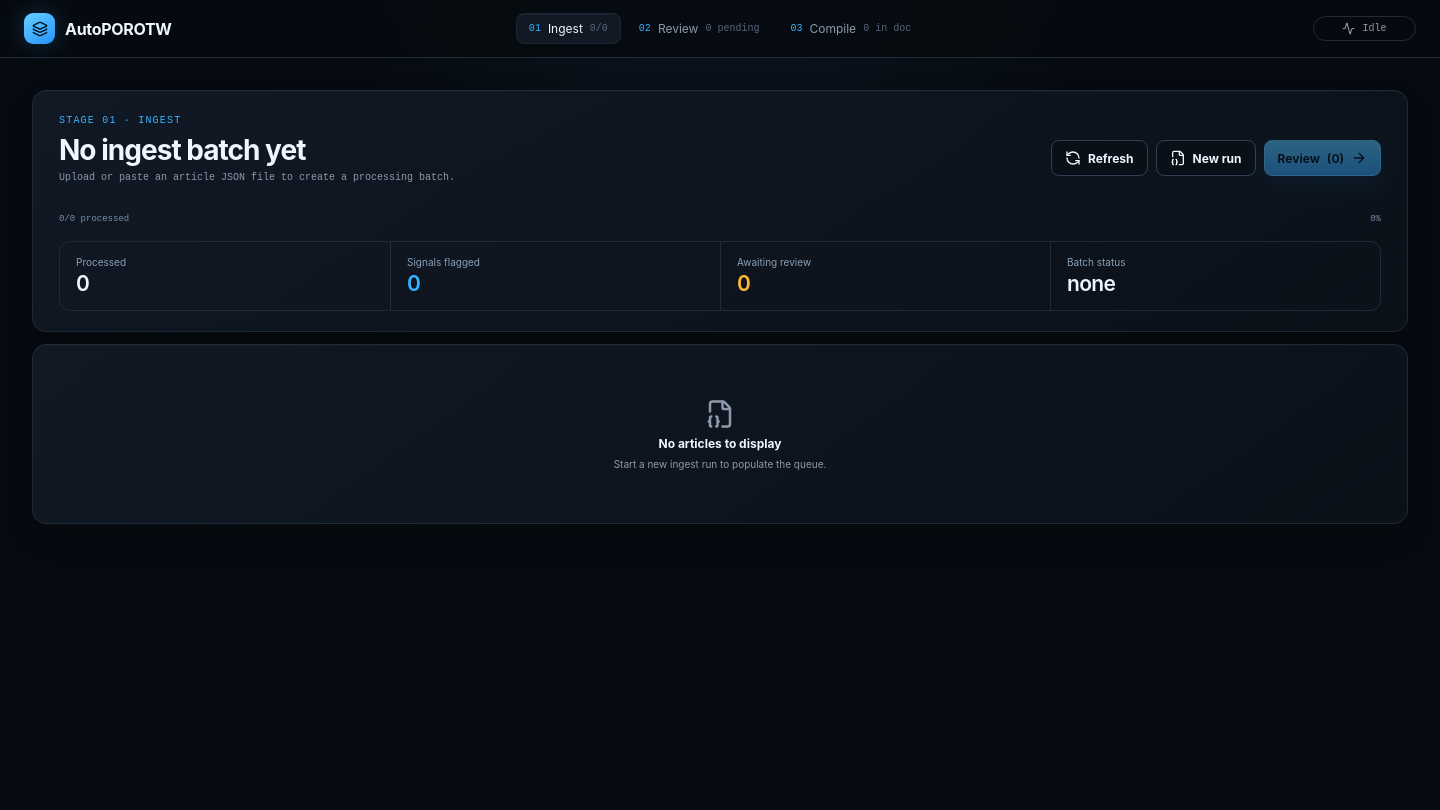
AutoPOROTW API integration › posts a new batch and loads it by the returned id
This screenshot has width=1440, height=810.
Check: the heading "No ingest batch yet" is shown, box [59,133,306,167]
Click the button "New run": (1206, 158) [1156,140,1256,176]
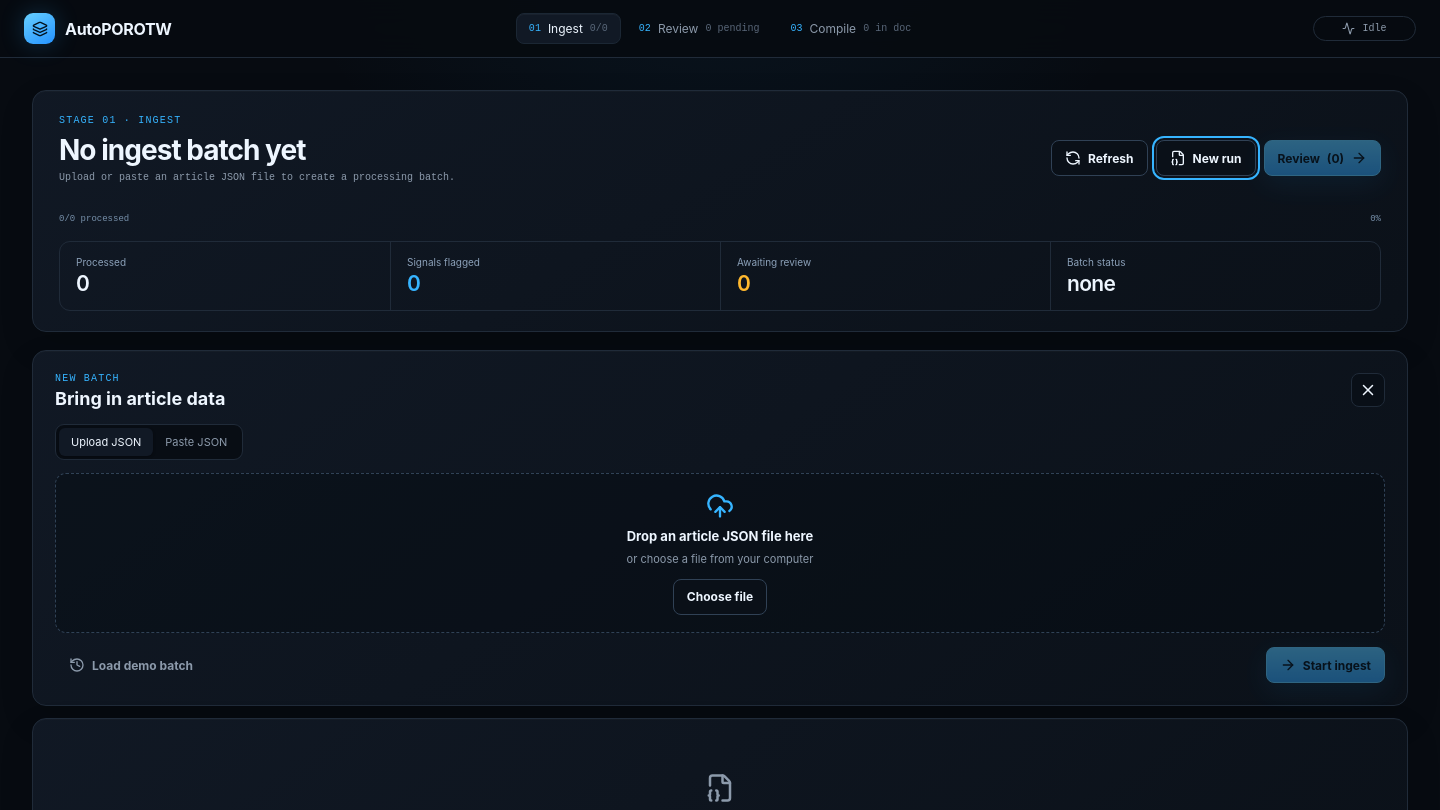
Click the button "Load demo batch": (131, 665) [55,647,207,683]
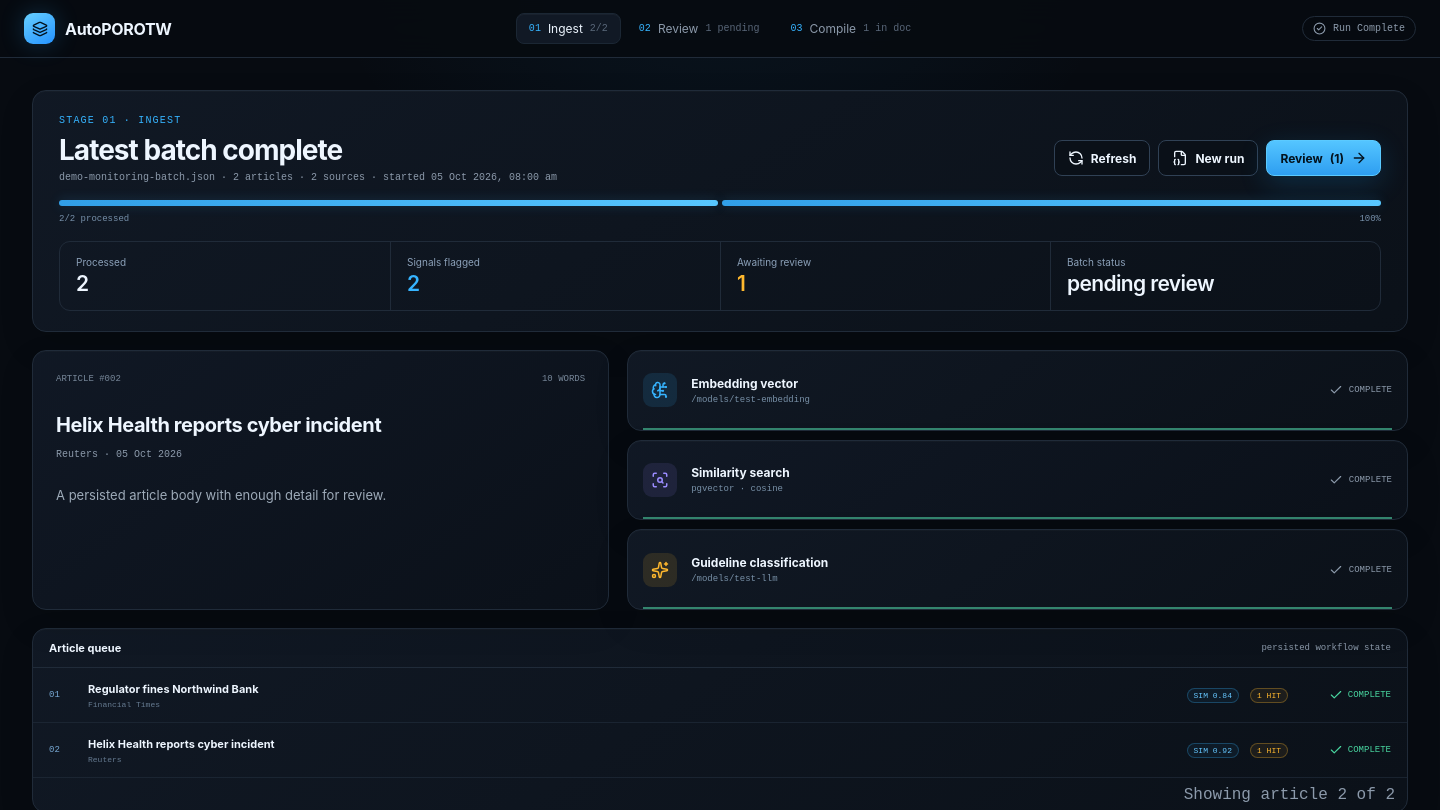
Check: the text "Regulator fines Northwind Bank" is shown, box [88,682,258,696]
